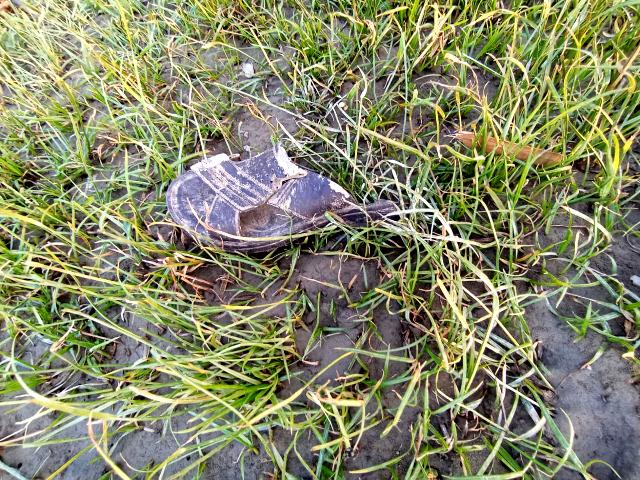sandal: (145, 121, 424, 256)
